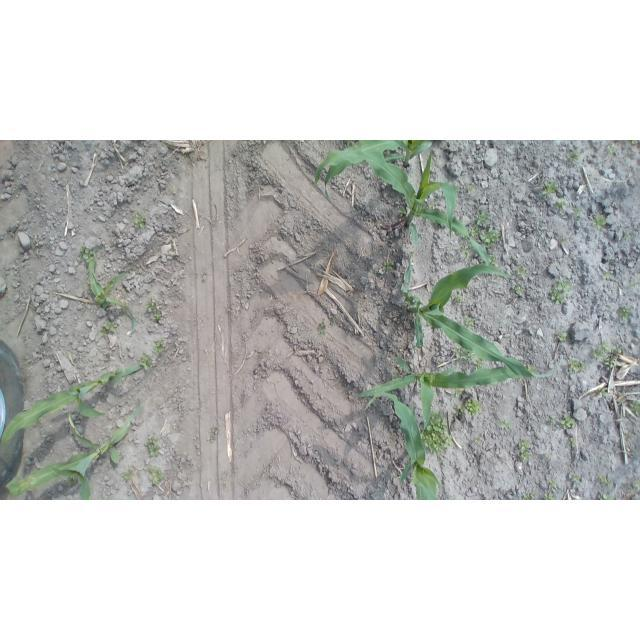Maize: (311, 151, 500, 267), (401, 261, 558, 380), (6, 400, 144, 498), (354, 358, 530, 431), (0, 359, 148, 445), (363, 389, 444, 500), (323, 141, 434, 197), (85, 247, 140, 333)
Weeds: (418, 411, 452, 458), (469, 210, 505, 246), (590, 340, 622, 368), (549, 280, 572, 305), (451, 345, 478, 364), (146, 298, 163, 324), (145, 434, 161, 458), (465, 397, 483, 418), (549, 415, 576, 429), (133, 211, 150, 233), (99, 320, 120, 336), (590, 213, 608, 231), (153, 338, 169, 358), (486, 251, 503, 269), (148, 466, 165, 484), (617, 304, 632, 324), (77, 247, 97, 262), (566, 149, 585, 164), (520, 440, 533, 461), (459, 244, 473, 263), (598, 473, 614, 489), (567, 357, 585, 371), (204, 425, 218, 443), (541, 181, 558, 195), (565, 435, 579, 452), (314, 319, 328, 335), (140, 353, 153, 370), (514, 267, 529, 281), (461, 316, 477, 329), (381, 259, 395, 273), (630, 399, 640, 418), (472, 360, 486, 373), (463, 184, 477, 197), (120, 472, 133, 485), (574, 475, 586, 489), (554, 330, 568, 342), (555, 198, 565, 213), (455, 406, 466, 419), (571, 208, 582, 221), (499, 419, 513, 429), (608, 147, 622, 157), (597, 492, 614, 500), (522, 492, 541, 499), (62, 477, 74, 488), (397, 204, 408, 216), (558, 235, 571, 245), (622, 433, 633, 444), (474, 436, 484, 448), (598, 386, 608, 398), (453, 295, 464, 305), (545, 452, 556, 462), (550, 480, 559, 492), (199, 272, 209, 282), (328, 315, 337, 326), (544, 493, 557, 500), (603, 266, 610, 279), (513, 285, 522, 295), (627, 280, 637, 289), (623, 230, 630, 242), (634, 482, 640, 494), (629, 140, 640, 146)
